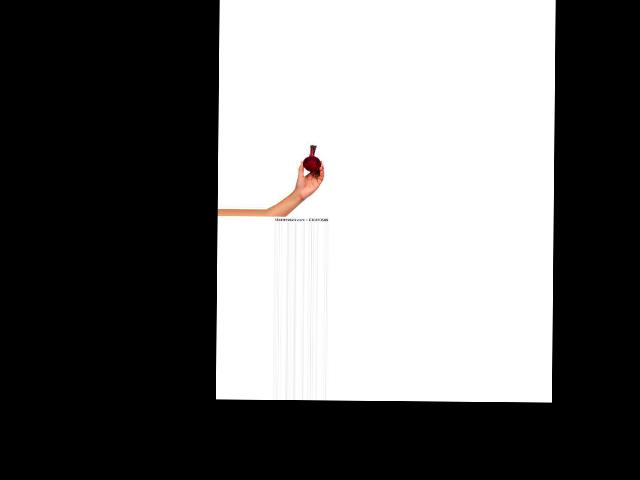beet: (303, 145, 321, 172)
